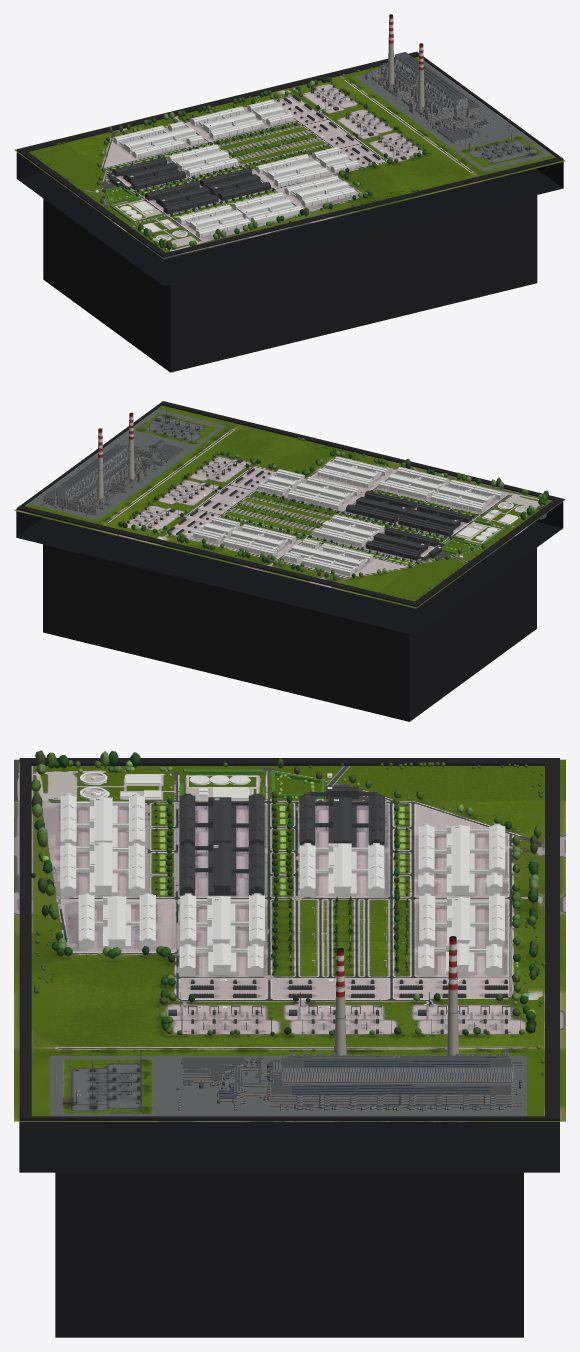
The model's file is DolinaCOD_GRES2.glb.
3 views of the same model, one above another, from view 1: azimuth 30°, elevation 25°; view 2: azimuth 150°, elevation 25°; view 3: azimuth 270°, elevation 25° (orthographic). The views are drawn at different scales.
Visible parts, largest first — view 1: Долина ЦОД · макет (фотоскан) 2,38 × 1,51 м, ground (×2), Долина ЦОД · макет 2,34 × 1,44 м, frame, wall_panel, roof_ortho, parapet, pilaster, wall_boiler, chimney; view 2: Долина ЦОД · макет (фотоскан) 2,38 × 1,51 м, ground (×2), Долина ЦОД · макет 2,34 × 1,44 м, frame, roof_ortho, wall_panel, parapet, wall_boiler, pilaster, chimney; view 3: ground (×2), Долина ЦОД · макет (фотоскан) 2,38 × 1,51 м, Долина ЦОД · макет 2,34 × 1,44 м, frame, roof_ortho, wall_panel, wall_boiler, parapet, pilaster, chimney, lantern_top, lantern.
Part boxes in pixels (<box>): Долина ЦОД · макет (фотоскан) 2,38 × 1,51 м: <box>16,152,563,372</box>; ground (×2): <box>14,51,565,259</box>; Долина ЦОД · макет 2,34 × 1,44 м: <box>95,76,423,240</box>; frame: <box>17,52,563,259</box>; wall_panel: <box>365,66,510,143</box>; roof_ortho: <box>366,52,509,141</box>; parapet: <box>365,52,491,142</box>; pilaster: <box>367,55,486,143</box>; wall_boiler: <box>381,55,467,109</box>; chimney: <box>388,14,424,108</box>; Долина ЦОД · макет (фотоскан) 2,38 × 1,51 м: <box>16,502,563,721</box>; ground (×2): <box>14,405,565,608</box>; Долина ЦОД · макет 2,34 × 1,44 м: <box>123,450,528,576</box>; frame: <box>16,401,563,608</box>; roof_ortho: <box>42,440,183,514</box>; wall_panel: <box>41,441,184,516</box>; parapet: <box>41,439,184,512</box>; wall_boiler: <box>54,447,142,501</box>; pilaster: <box>43,441,183,515</box>; chimney: <box>97,412,134,498</box>; ground (×2): <box>14,759,565,1121</box>; Долина ЦОД · макет (фотоскан) 2,38 × 1,51 м: <box>19,1122,559,1337</box>; Долина ЦОД · макет 2,34 × 1,44 м: <box>53,769,520,1033</box>; frame: <box>19,758,559,1123</box>; roof_ortho: <box>177,1051,522,1108</box>; wall_panel: <box>176,1046,522,1111</box>; wall_boiler: <box>272,1054,513,1080</box>; parapet: <box>181,1044,522,1108</box>; pilaster: <box>182,1051,521,1109</box>; chimney: <box>334,936,458,1055</box>; lantern_top: <box>219,1056,496,1098</box>; lantern: <box>218,1057,496,1106</box>.
Bounding box in the file's own units: 2.4 × 1.13 × 1.54.
Materials: 41 (6 with a texture image).
